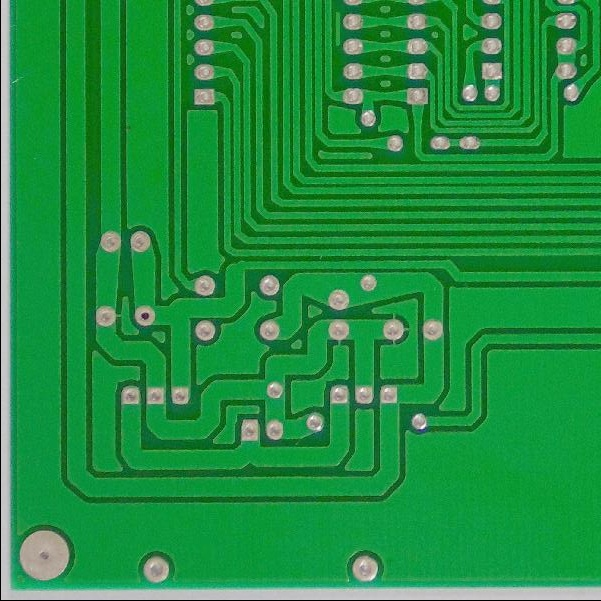spurious_copper: (329, 9, 345, 49)
